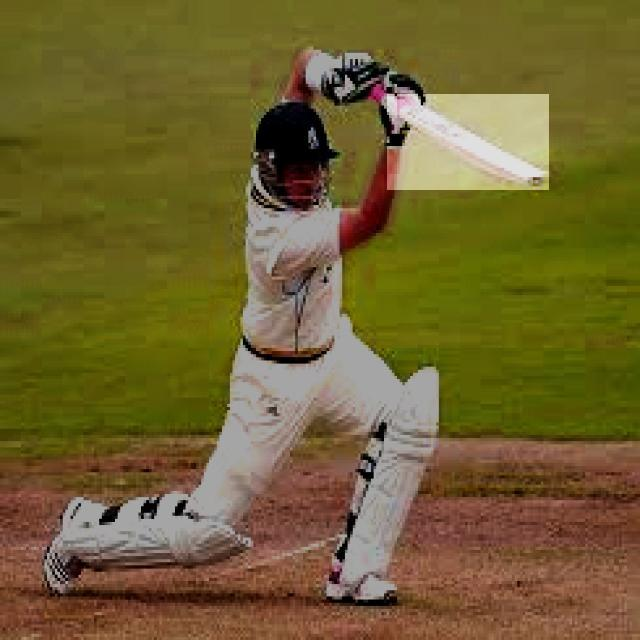bat: (386, 93, 552, 192)
toe: (517, 168, 549, 190)
